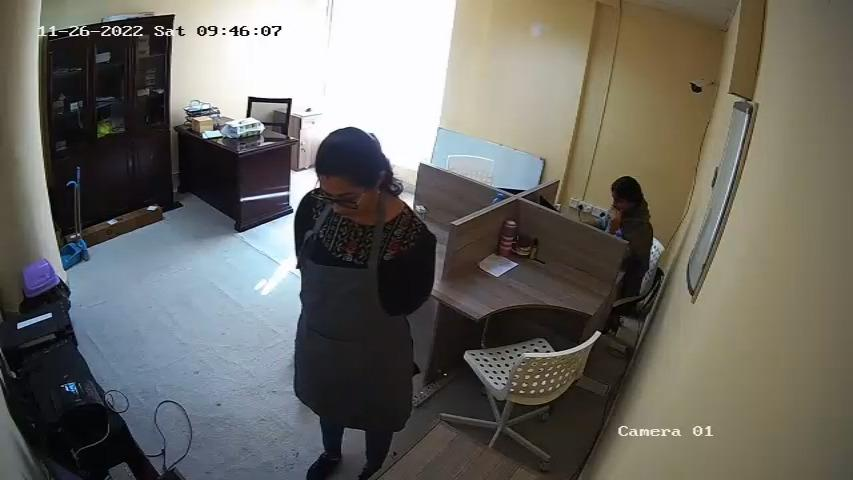apron: (300, 217, 412, 416)
